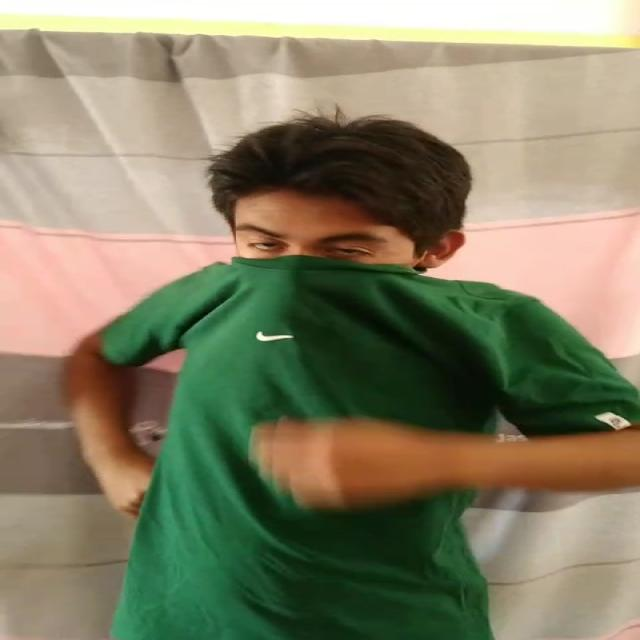8_ropa_rostro: (198, 252, 475, 362)
